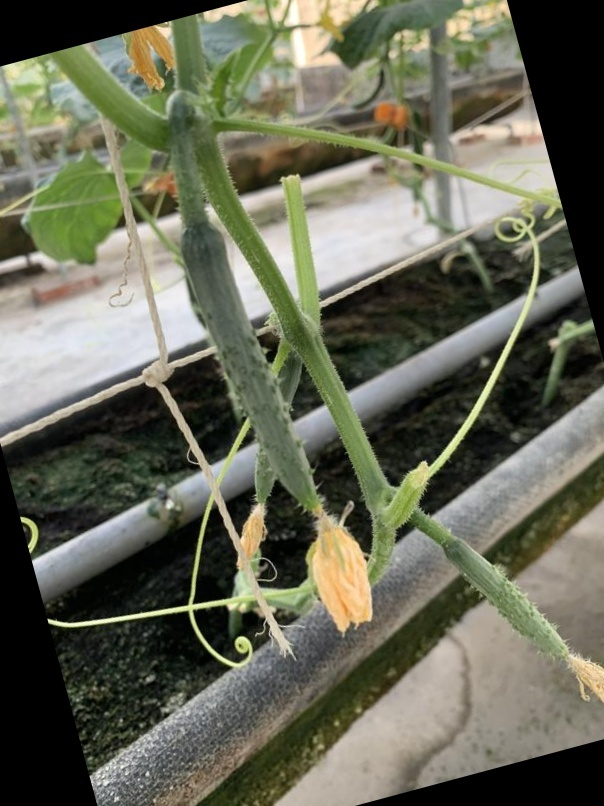bear: (443, 537, 603, 714)
flowering: (173, 222, 365, 611)
growth: (174, 220, 368, 621)
